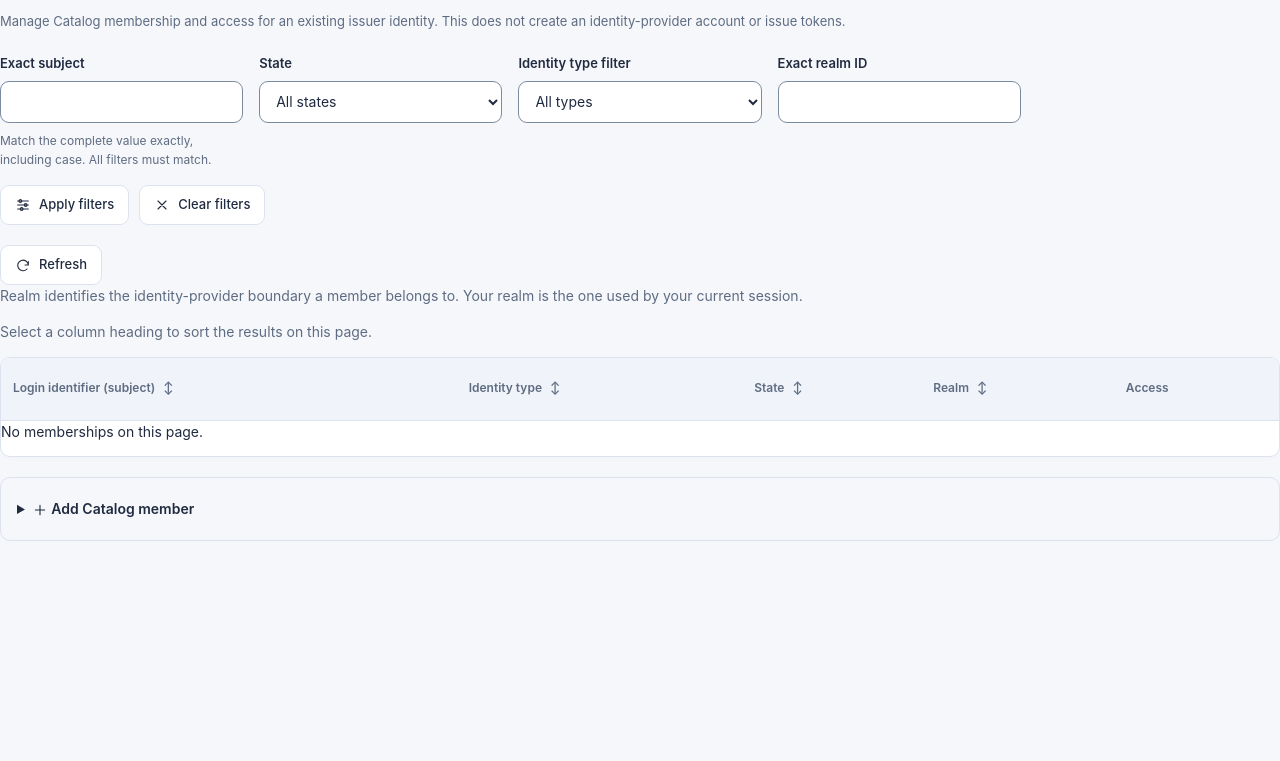
Scenario: blocks role preparation until exact current metadata loads and supports explicit refresh
The width and height of the screenshot is (1280, 761).
Check: the text "No memberships on this page." is shown, box [1,422,203,440]
Click the heading "Add Catalog member". click: (113, 509)
box: [32,500,194,518]
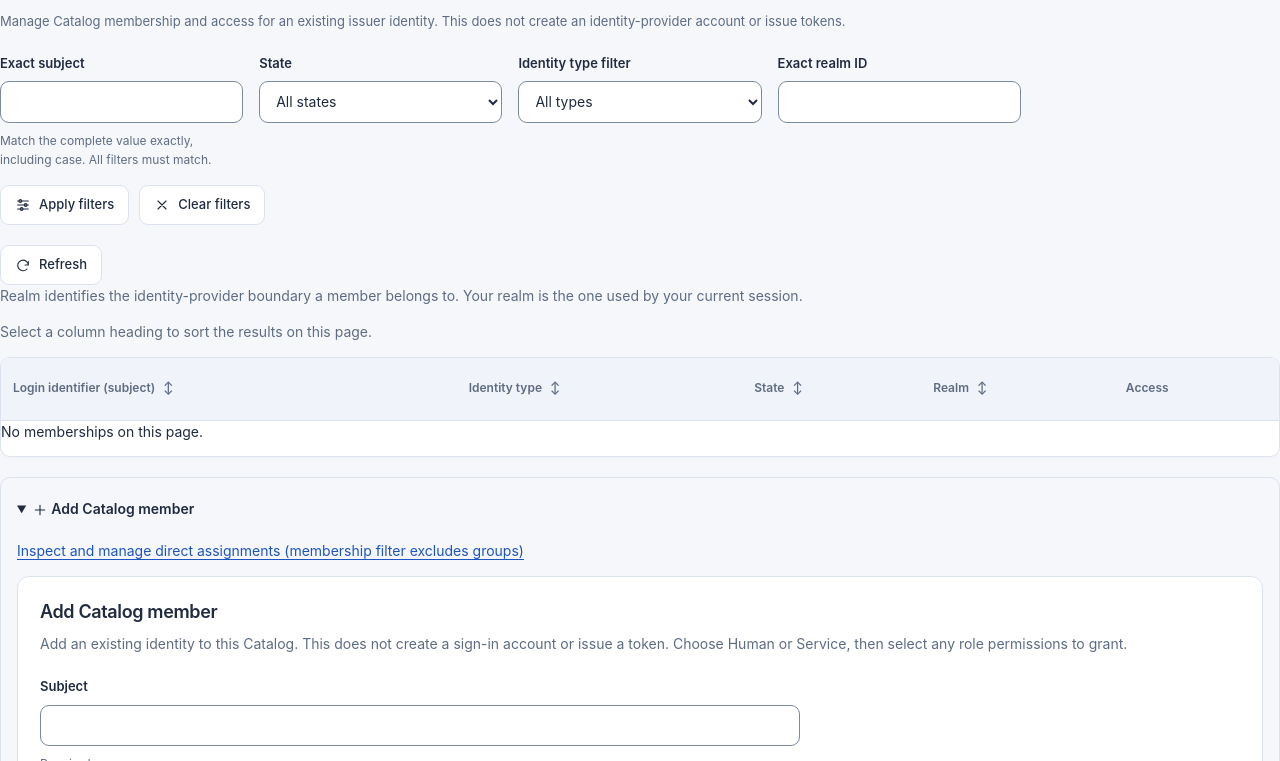
Type "New member" into the field labelled "Subject". click: (420, 725)
box: [40,704,800,746]
(page scrolled)
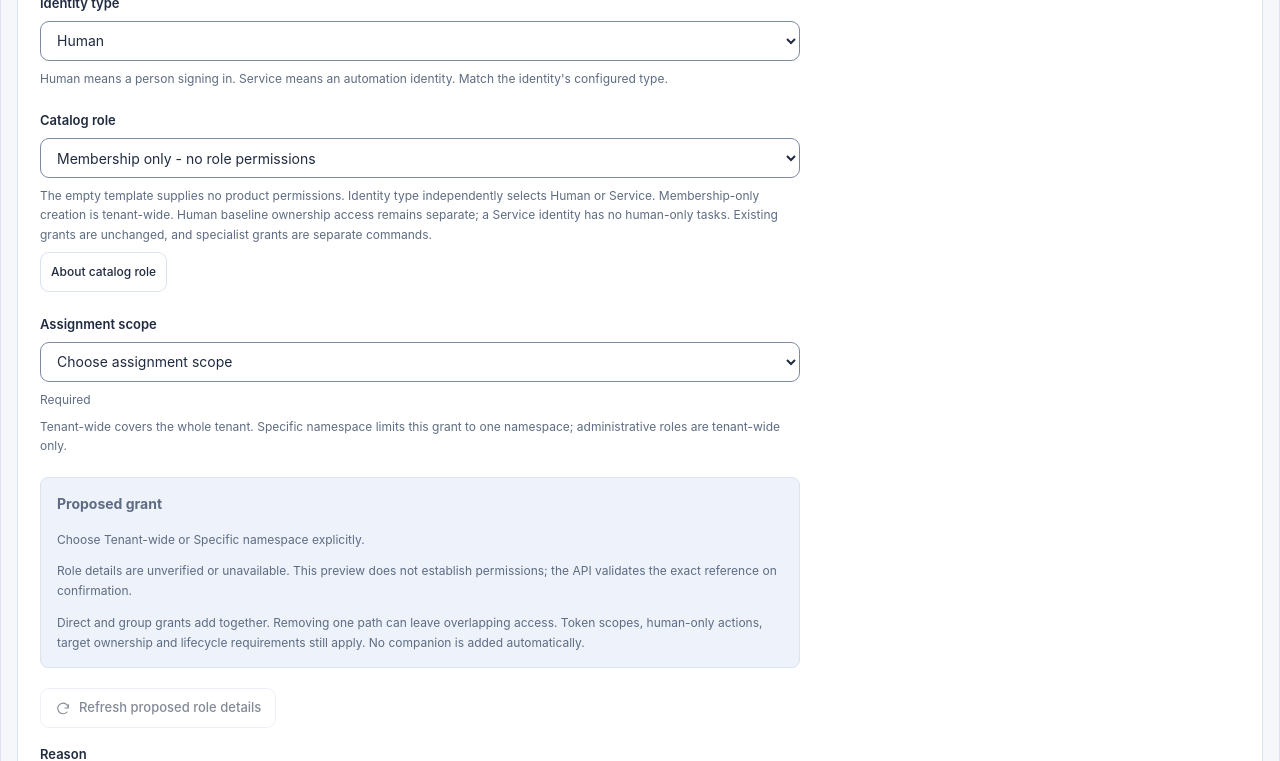
Select "Tenant-wide" in the dropdown labelled "Assignment scope". click: (420, 362)
box: [40,342,800,382]
(page scrolled)
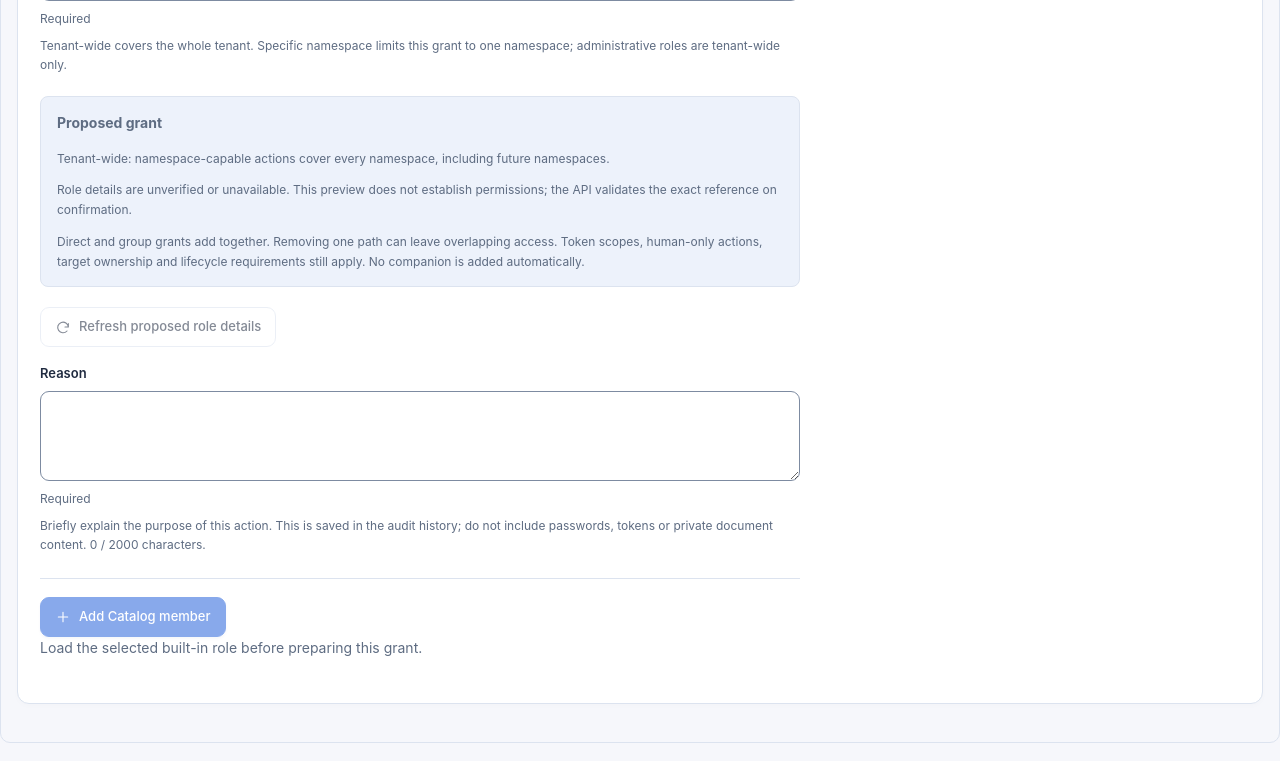
Type "Membership first" into the text box labelled "Reason". click: (420, 436)
box: [40,391,800,481]
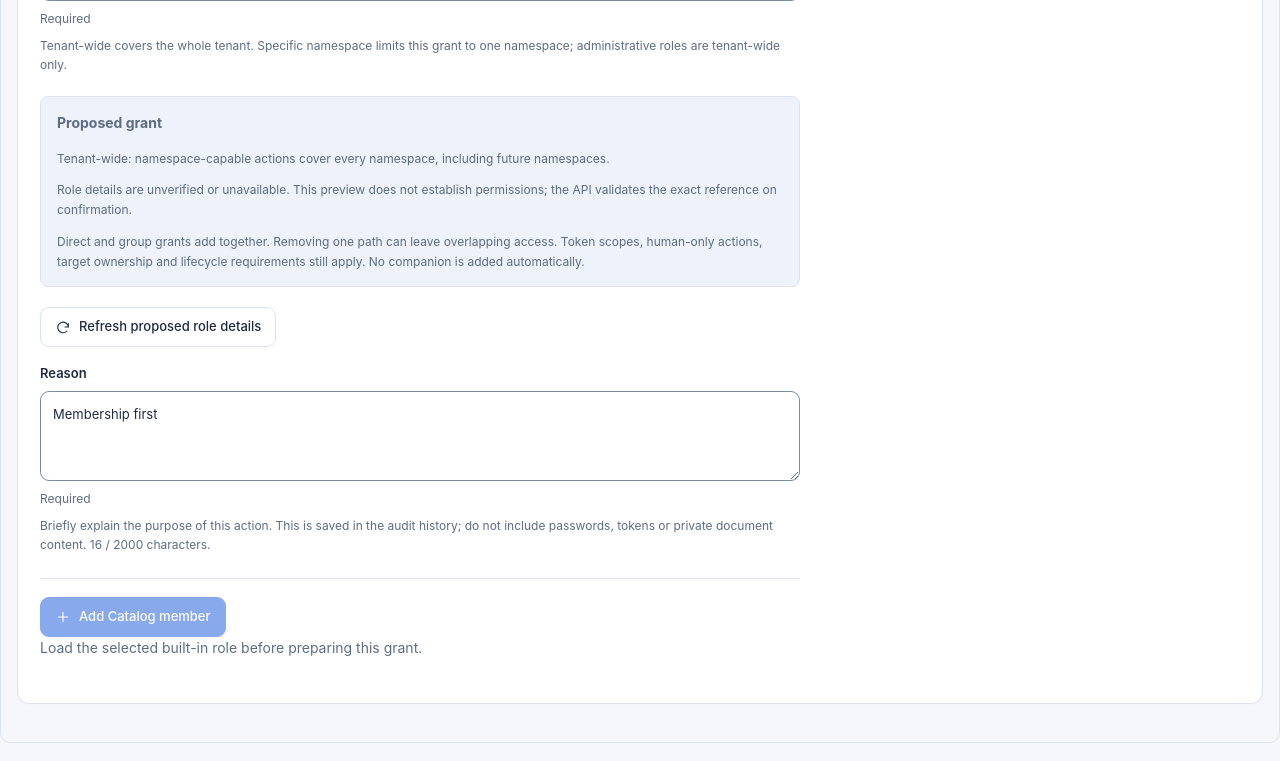
Check: the button "Add Catalog member" is disabled, box [40,597,226,637]
Check: the text "Load the selected built-in role before preparing this grant." is shown, box [40,639,422,656]
Check: the button "Refresh proposed role details" is enabled
Click the button "Refresh proposed role details". click: (158, 327)
box: [40,307,276,347]
(page scrolled)
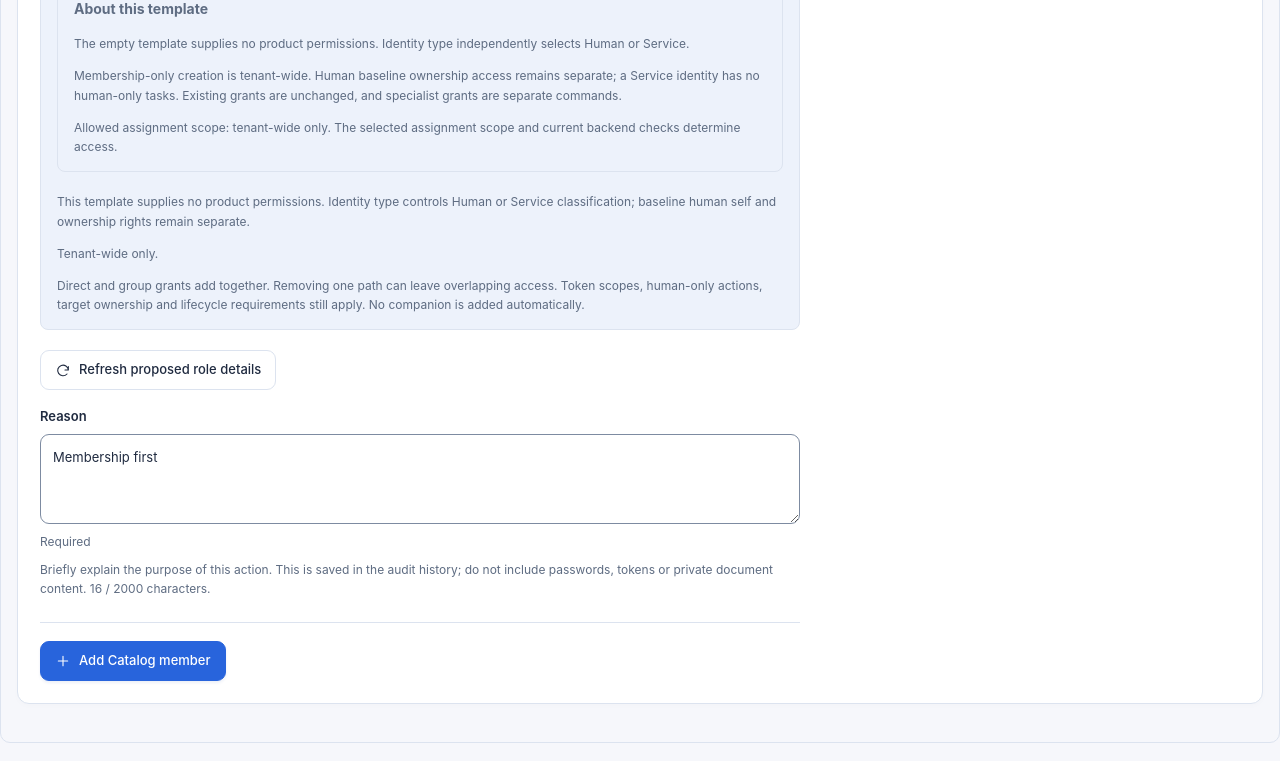
Check: the button "Add Catalog member" is enabled, box [40,641,226,681]
